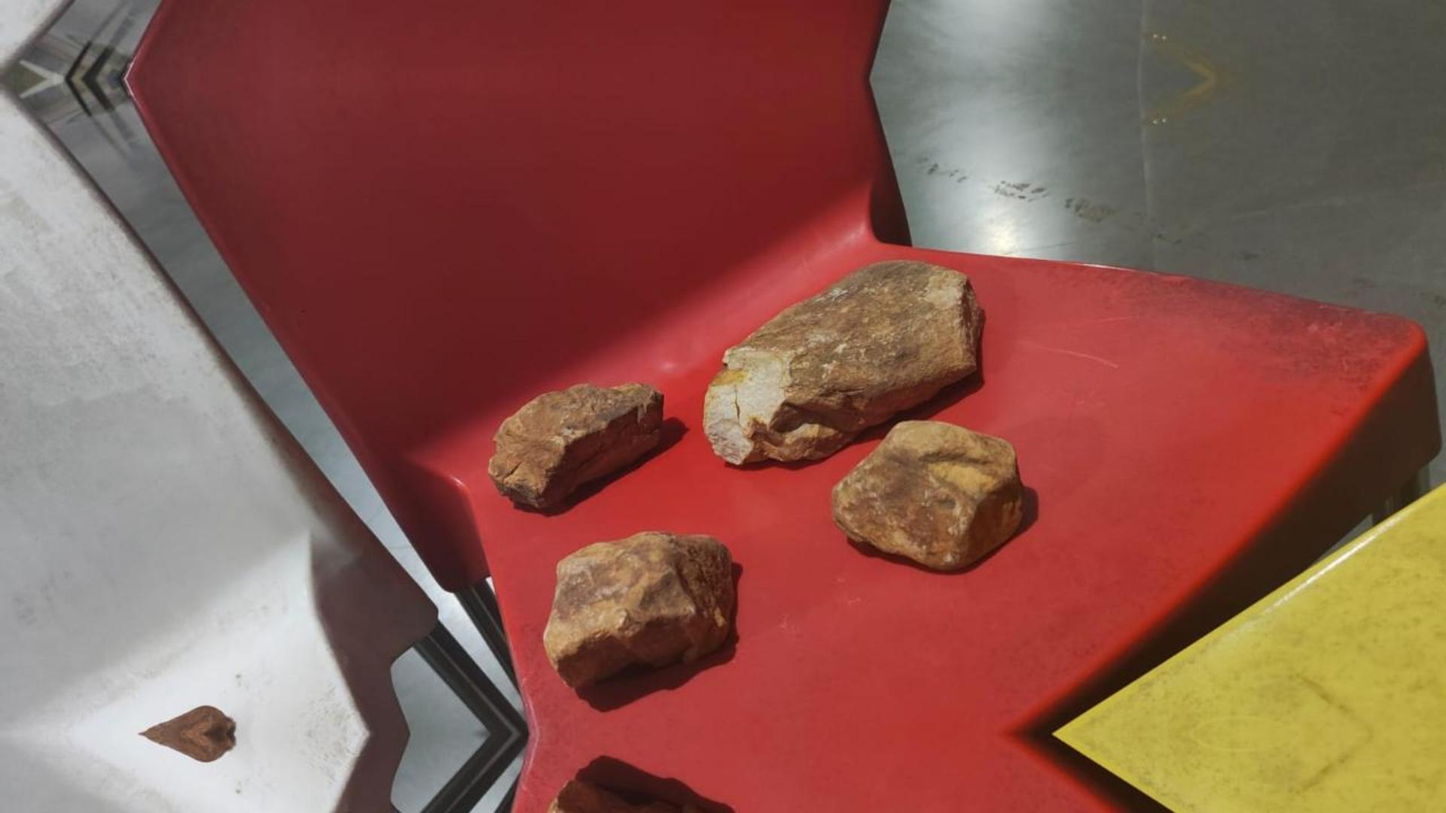rock: (703, 261, 983, 465), (543, 532, 734, 689), (831, 420, 1022, 570), (488, 383, 663, 509), (548, 778, 732, 812)
